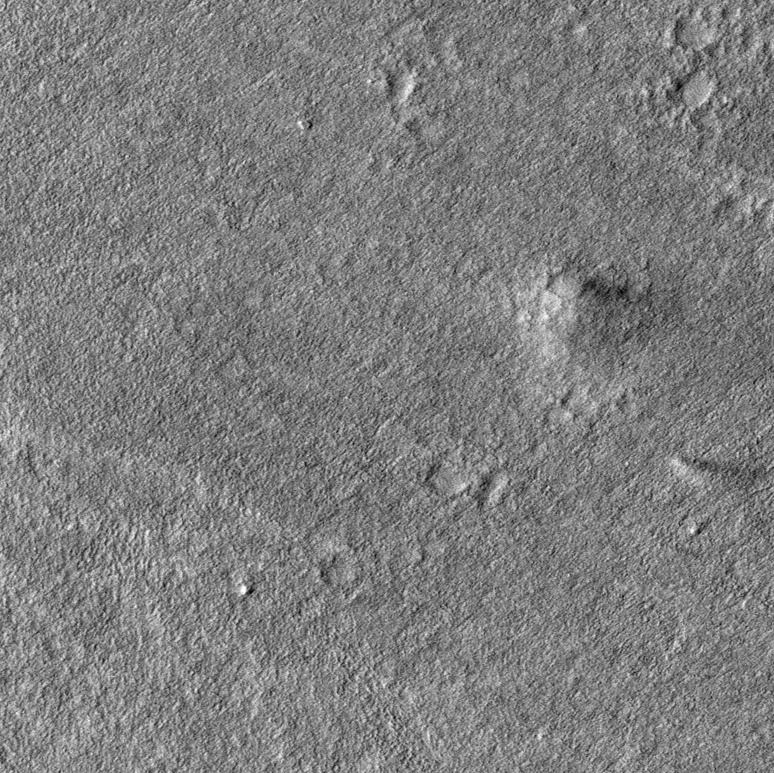dust_devil: (666, 452, 767, 496)
